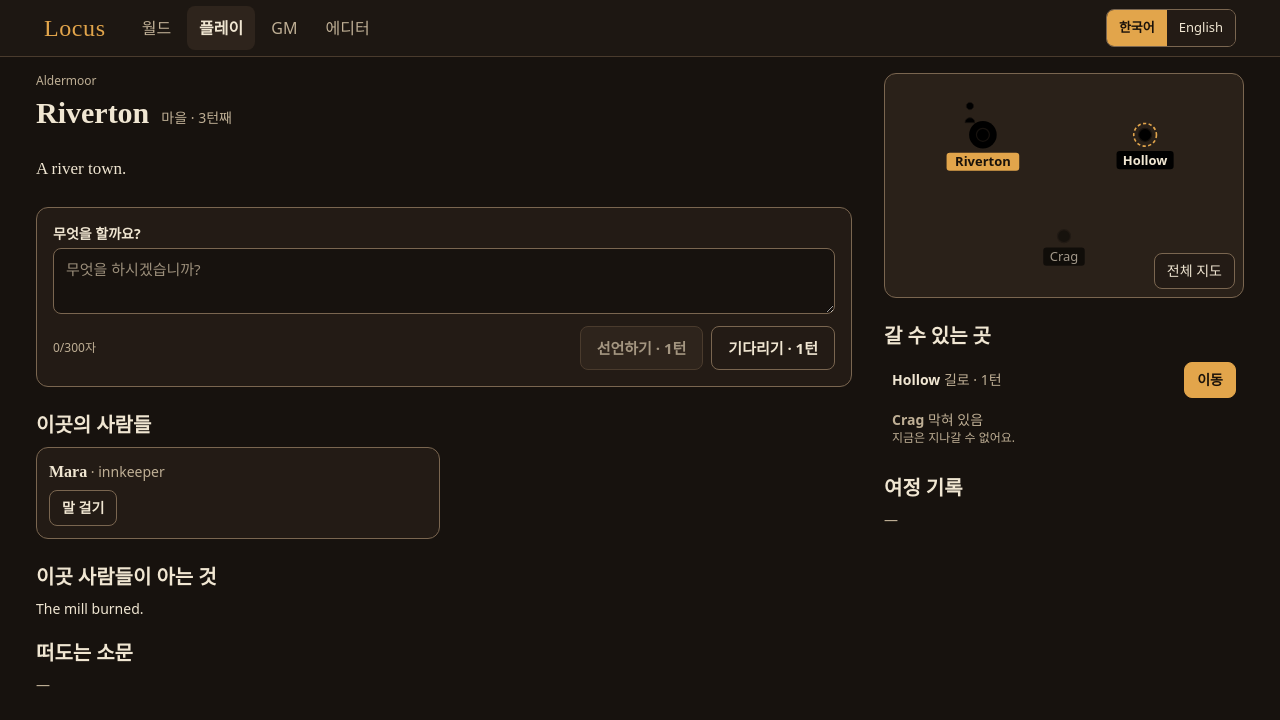
Test: code review 01: the talk and focus › #13: a refused [end talk] keeps the talk open
The image size is (1280, 720).
Click the button with test id "npc-n1-talk-btn".
click(83, 508)  # box [49,490,117,526]
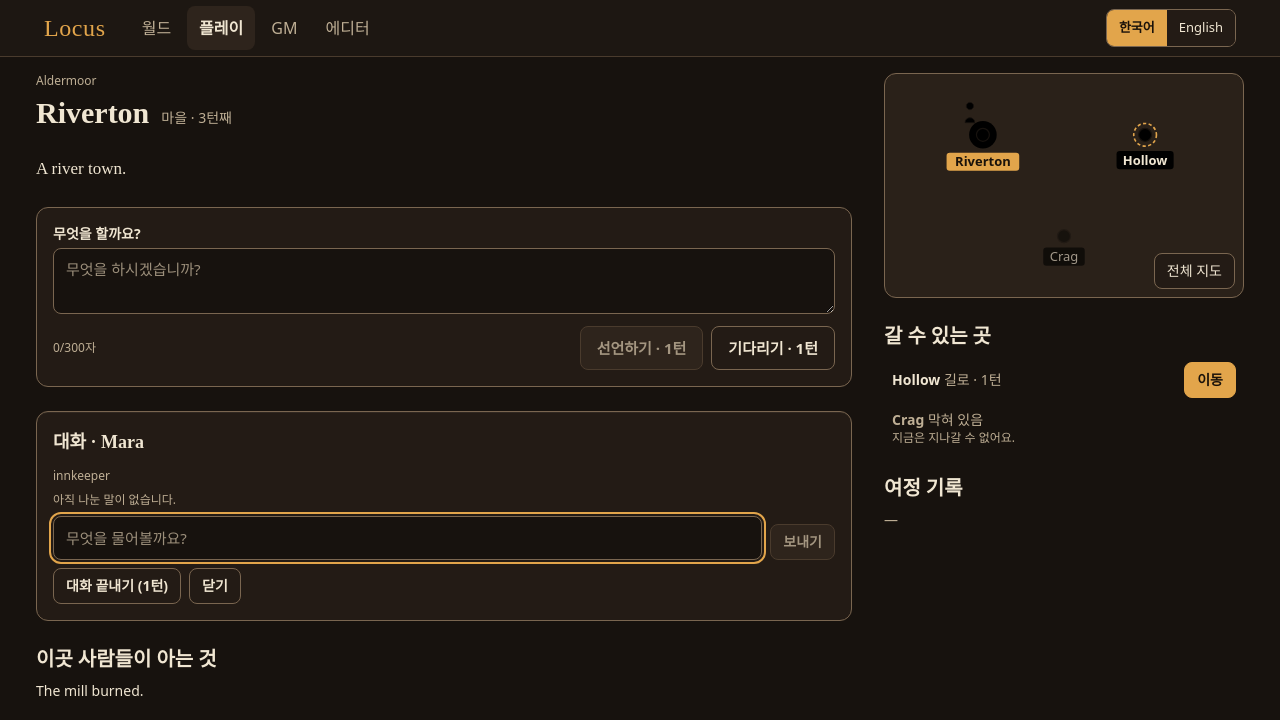
expect the element with test id "dialogue-panel" is shown: met, box [36,411,852,621]
Click the button with test id "dialogue-end-btn".
click(117, 586)  # box [53,568,181,604]
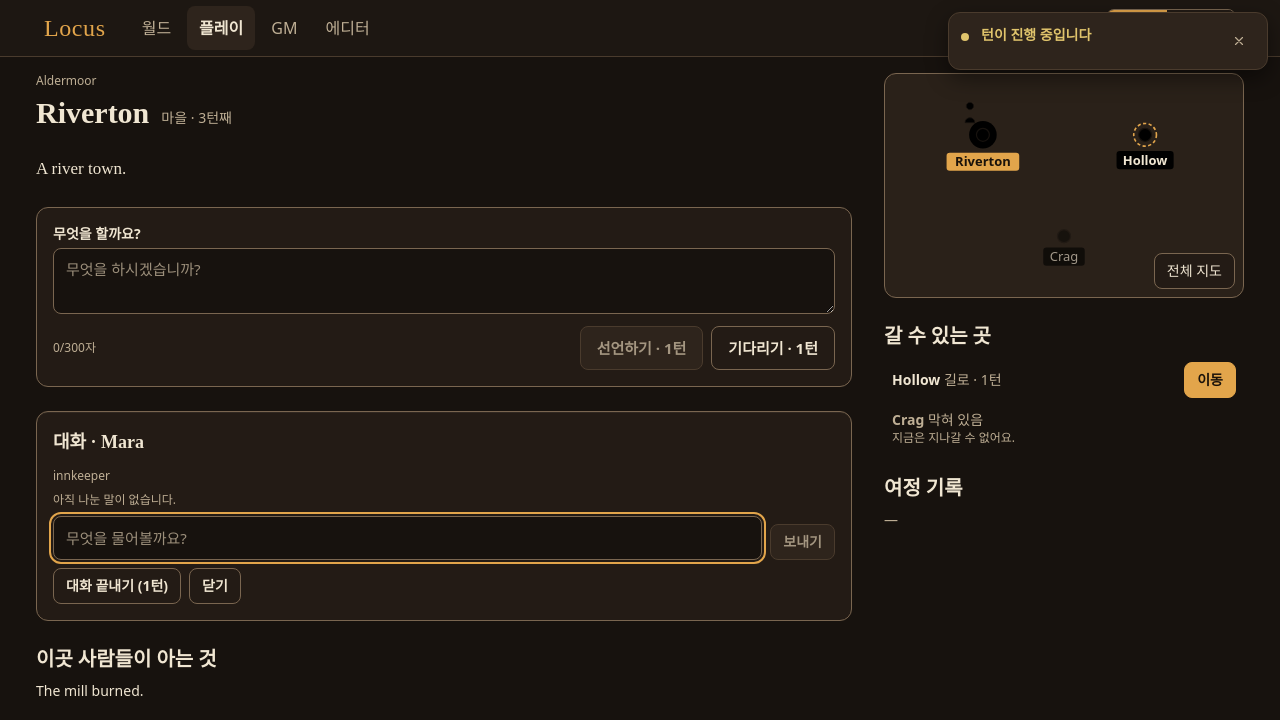
expect the element with test id "dialogue-panel" is shown: met, box [36,411,852,621]
expect the element with test id "notification-center" reads "턴이 진행 중입니다": met, box [981,25,1091,44]
